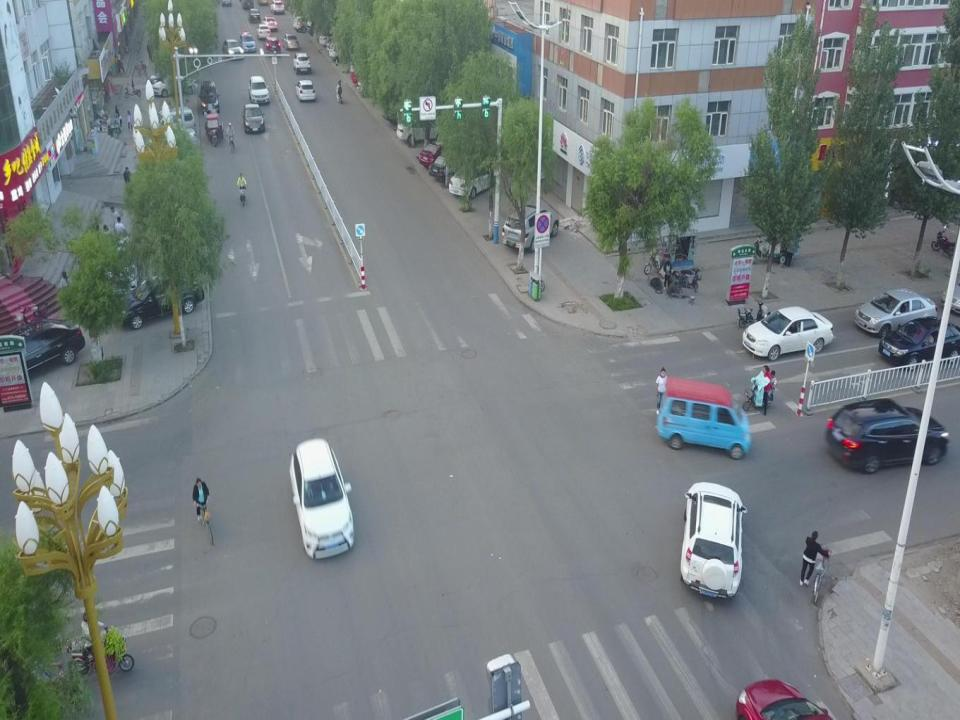car: (825, 397, 950, 474), (680, 481, 748, 599), (289, 438, 354, 559), (1, 317, 85, 386), (742, 306, 834, 361), (116, 272, 204, 329), (878, 316, 960, 371), (854, 287, 938, 338), (501, 204, 559, 252), (103, 244, 142, 294), (449, 162, 496, 198), (144, 126, 198, 154), (149, 105, 196, 134), (396, 116, 442, 144), (151, 73, 198, 97), (146, 63, 191, 88), (428, 153, 467, 179), (419, 138, 452, 166), (198, 80, 220, 115), (241, 102, 265, 134), (248, 74, 270, 104), (328, 42, 353, 62), (295, 79, 316, 102), (222, 39, 244, 60), (293, 14, 318, 32), (292, 52, 312, 74), (356, 79, 381, 95), (305, 18, 328, 34), (350, 68, 373, 84), (240, 31, 256, 53), (319, 30, 342, 45), (263, 36, 281, 54), (281, 33, 299, 50), (261, 16, 278, 31), (269, 0, 285, 15), (256, 23, 270, 40), (248, 8, 261, 22), (239, 0, 254, 9)
van: (657, 376, 751, 460)
